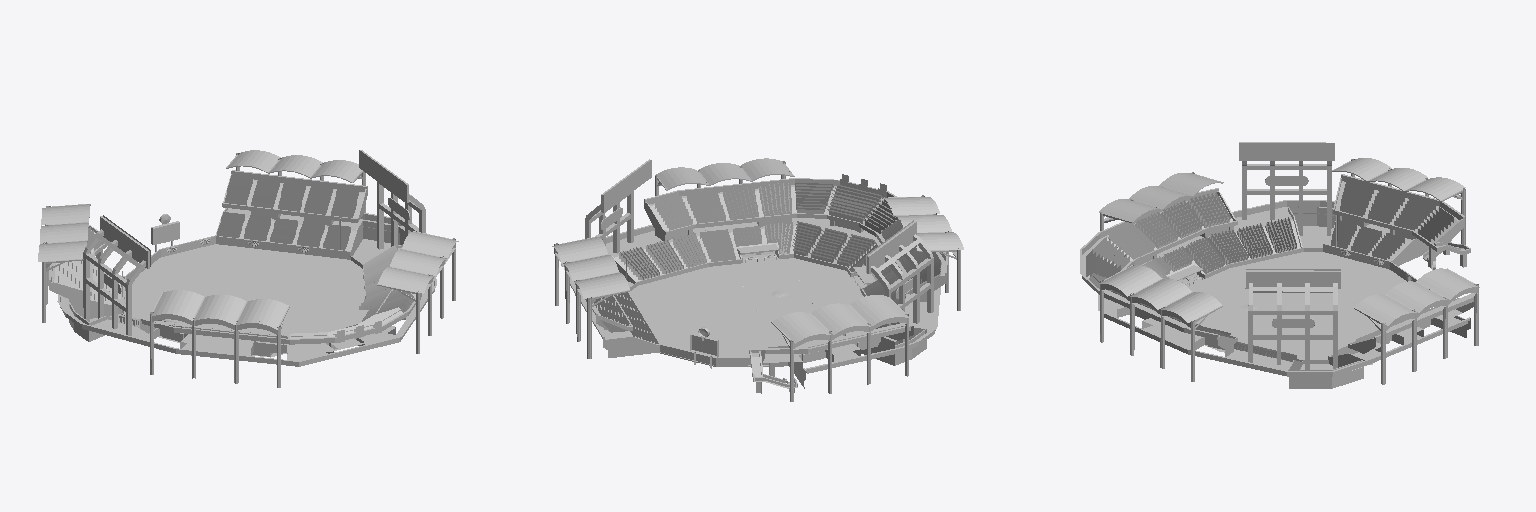
Rendered from stadium.obj.
3 renders of one model, left to right at view 1: azimuth 30°, elevation 25°; view 2: azimuth 150°, elevation 25°; view 3: azimuth 270°, elevation 25°, orthographic.
Parts seen in each view (by area): view 1: DrawCall_0055.002, DrawCall_0297.002, DrawCall_0056.002, DrawCall_0287.002, DrawCall_0061.002, DrawCall_0308.002, DrawCall_0274.002, DrawCall_0224.002, DrawCall_0357.002, DrawCall_0192.002, DrawCall_0353.002, DrawCall_0228.002 (+13 smaller); view 2: DrawCall_0055.002, DrawCall_0308.002, DrawCall_0056.002, DrawCall_0297.002, DrawCall_0274.002, DrawCall_0228.002, DrawCall_0061.002, DrawCall_0287.002, DrawCall_0367.002, DrawCall_0357.002, DrawCall_0368.002, DrawCall_0353.002 (+13 smaller); view 3: DrawCall_0055.002, DrawCall_0274.002, DrawCall_0287.002, DrawCall_0357.002, DrawCall_0368.002, DrawCall_0056.002, DrawCall_0308.002, DrawCall_0297.002, DrawCall_0367.002, DrawCall_0228.002, DrawCall_0061.002, DrawCall_0551.002 (+15 smaller).
Boxes of the visible parts, <box> form: DrawCall_0055.002: <box>135,248,364,356</box>; DrawCall_0297.002: <box>151,290,283,329</box>; DrawCall_0056.002: <box>138,261,353,331</box>; DrawCall_0287.002: <box>378,232,457,293</box>; DrawCall_0061.002: <box>124,244,356,329</box>; DrawCall_0308.002: <box>38,204,90,261</box>; DrawCall_0274.002: <box>227,150,361,182</box>; DrawCall_0224.002: <box>149,326,394,353</box>; DrawCall_0357.002: <box>83,184,418,333</box>; DrawCall_0192.002: <box>89,316,399,366</box>; DrawCall_0353.002: <box>83,236,140,334</box>; DrawCall_0228.002: <box>140,303,415,344</box>; DrawCall_0055.002: <box>649,255,864,357</box>; DrawCall_0308.002: <box>773,295,908,343</box>; DrawCall_0056.002: <box>655,269,851,356</box>; DrawCall_0297.002: <box>884,197,963,250</box>; DrawCall_0274.002: <box>553,238,629,298</box>; DrawCall_0228.002: <box>644,179,946,293</box>; DrawCall_0061.002: <box>629,280,820,365</box>; DrawCall_0287.002: <box>656,158,792,189</box>; DrawCall_0367.002: <box>601,159,916,273</box>; DrawCall_0357.002: <box>591,194,933,326</box>; DrawCall_0368.002: <box>604,160,913,272</box>; DrawCall_0353.002: <box>875,241,933,343</box>; DrawCall_0055.002: <box>1187,252,1397,354</box>; DrawCall_0274.002: <box>1355,268,1479,325</box>; DrawCall_0287.002: <box>1099,265,1221,322</box>; DrawCall_0357.002: <box>1242,162,1332,339</box>; DrawCall_0368.002: <box>1239,143,1340,270</box>; DrawCall_0056.002: <box>1197,255,1393,349</box>; DrawCall_0308.002: <box>1332,158,1465,201</box>; DrawCall_0297.002: <box>1099,173,1222,220</box>; DrawCall_0367.002: <box>1239,142,1340,288</box>; DrawCall_0228.002: <box>1082,189,1237,342</box>; DrawCall_0061.002: <box>1218,252,1406,359</box>; DrawCall_0551.002: <box>1232,217,1296,259</box>.
Bounding box in the file's own units: 479 × 132 × 463.